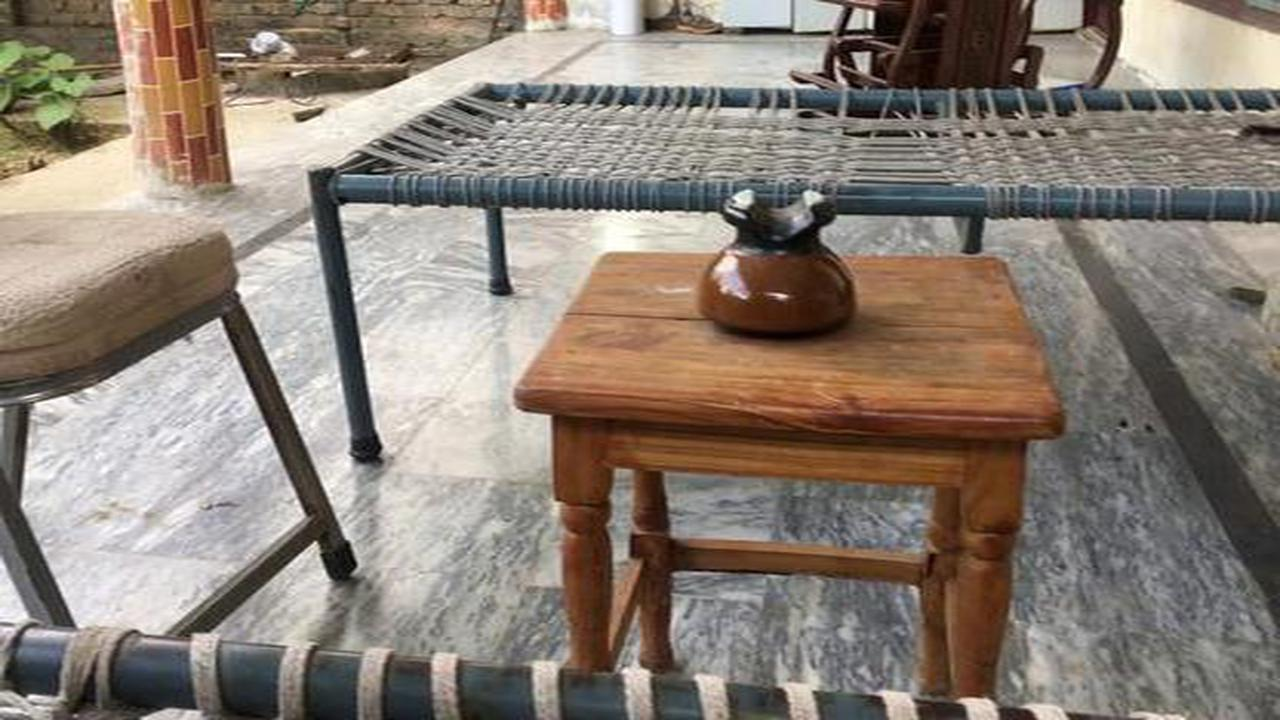insulator_pin: (671, 167, 887, 354)
